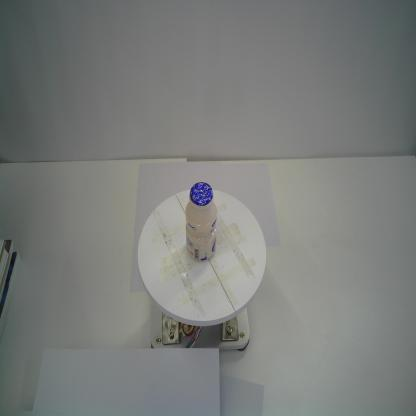Milk: (184, 181, 218, 262)
